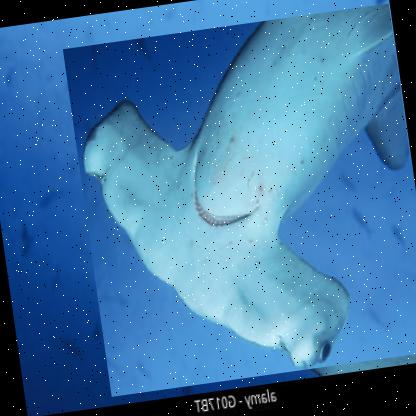hammerhead_Shark: (61, 2, 415, 398)
